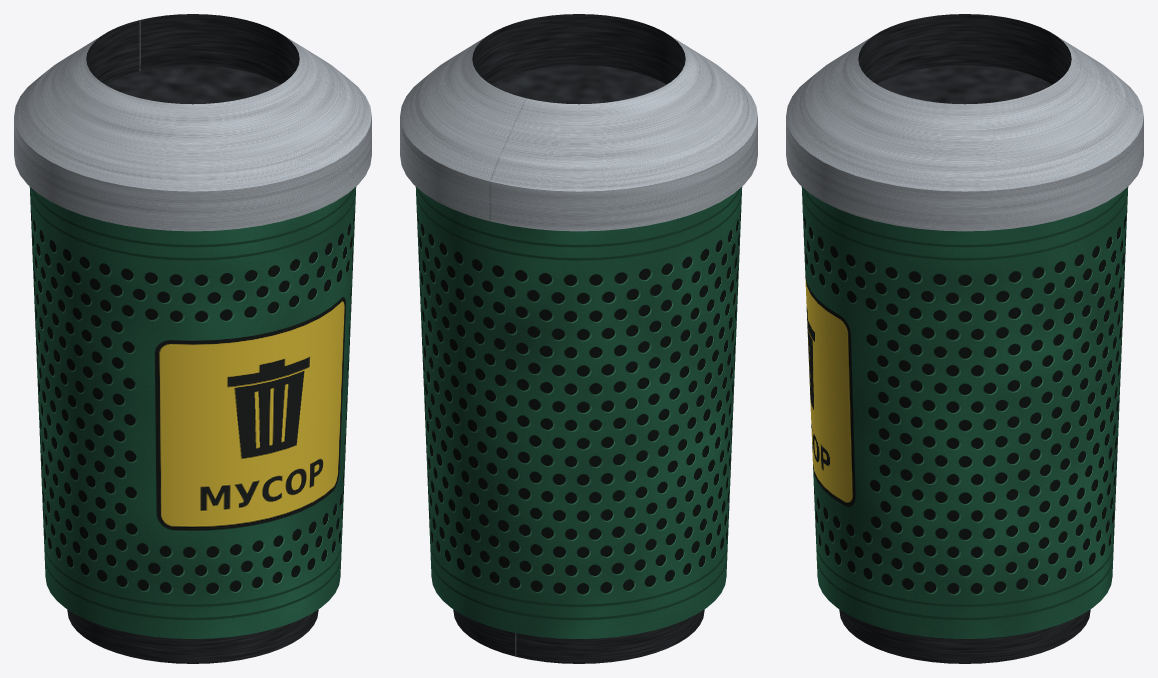
Rendered from trash_bin.obj.
3 renders of one model, left to right at view 1: azimuth 30°, elevation 25°; view 2: azimuth 150°, elevation 25°; view 3: azimuth 270°, elevation 25°, orthographic.
Parts seen in each view (by area): view 1: TrashBin; view 2: TrashBin; view 3: TrashBin.
Boxes of the visible parts, x1,y1,x2,y2 form: TrashBin: (14, 14, 371, 663); TrashBin: (400, 14, 757, 663); TrashBin: (786, 14, 1143, 663).
Bounding box in the file's own units: 0.57 × 0.97 × 0.57.
Materials: 1 (1 with a texture image).
